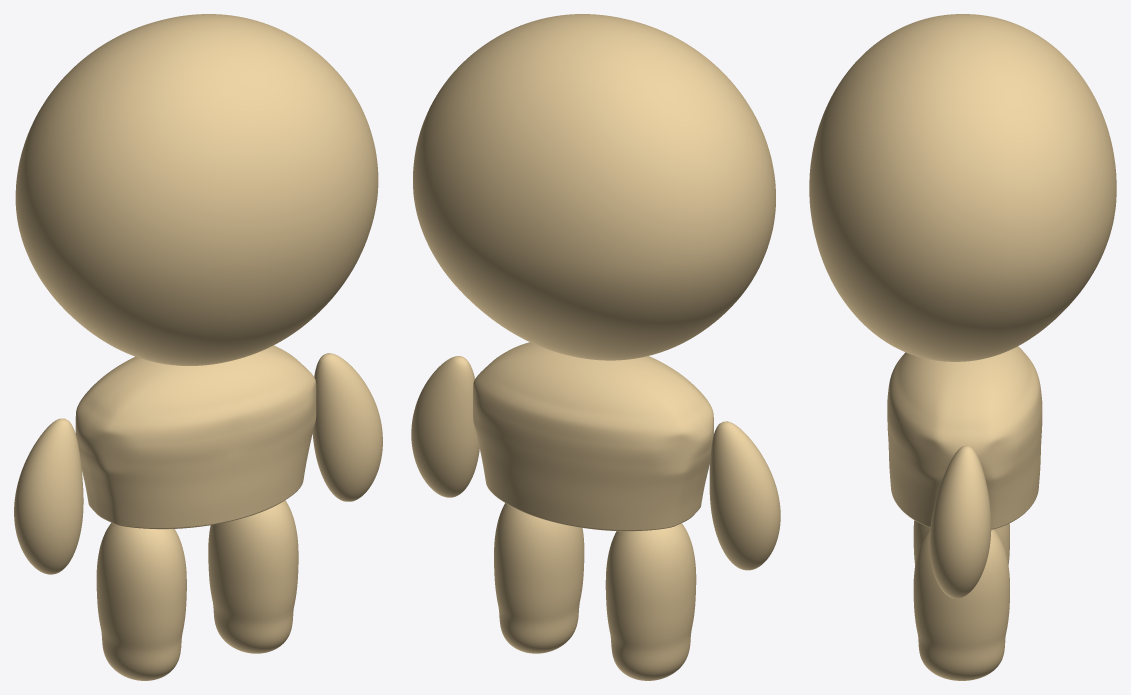
Rendered from Masculine-pants-clothed-base263.glb.
3 views of the same model, side by side, from view 1: azimuth 30°, elevation 25°; view 2: azimuth 150°, elevation 25°; view 3: azimuth 270°, elevation 25° (orthographic). The views are drawn at different scales.
Parts seen in each view (by area): view 1: Skin / soft oval head, Skin / rounded torso, Skin / pants fitted leg -1, Skin / pants fitted leg 1, Skin / swept arm -1, Skin / swept arm 1; view 2: Skin / soft oval head, Skin / rounded torso, Skin / pants fitted leg -1, Skin / pants fitted leg 1, Skin / swept arm -1, Skin / swept arm 1; view 3: Skin / soft oval head, Skin / rounded torso, Skin / pants fitted leg 1, Skin / swept arm 1, Skin / pants fitted leg -1.
Boxes of the visible parts, x1,y1,x2,y2 form: Skin / soft oval head: (15, 14, 378, 365); Skin / rounded torso: (75, 345, 316, 529); Skin / pants fitted leg -1: (96, 523, 186, 680); Skin / pants fitted leg 1: (208, 500, 298, 653); Skin / swept arm -1: (14, 418, 83, 574); Skin / swept arm 1: (312, 353, 382, 501); Skin / soft oval head: (413, 14, 775, 360); Skin / rounded torso: (473, 342, 713, 531); Skin / pants fitted leg -1: (605, 523, 696, 680); Skin / pants fitted leg 1: (494, 503, 584, 653); Skin / swept arm -1: (709, 421, 780, 570); Skin / swept arm 1: (411, 356, 479, 497); Skin / soft oval head: (809, 14, 1116, 361); Skin / rounded torso: (887, 346, 1042, 529); Skin / pants fitted leg 1: (913, 528, 1009, 680); Skin / swept arm 1: (929, 445, 991, 598); Skin / pants fitted leg -1: (913, 520, 1009, 565).
Bounding box in the file's own units: 1.07 × 1.8 × 0.81.
